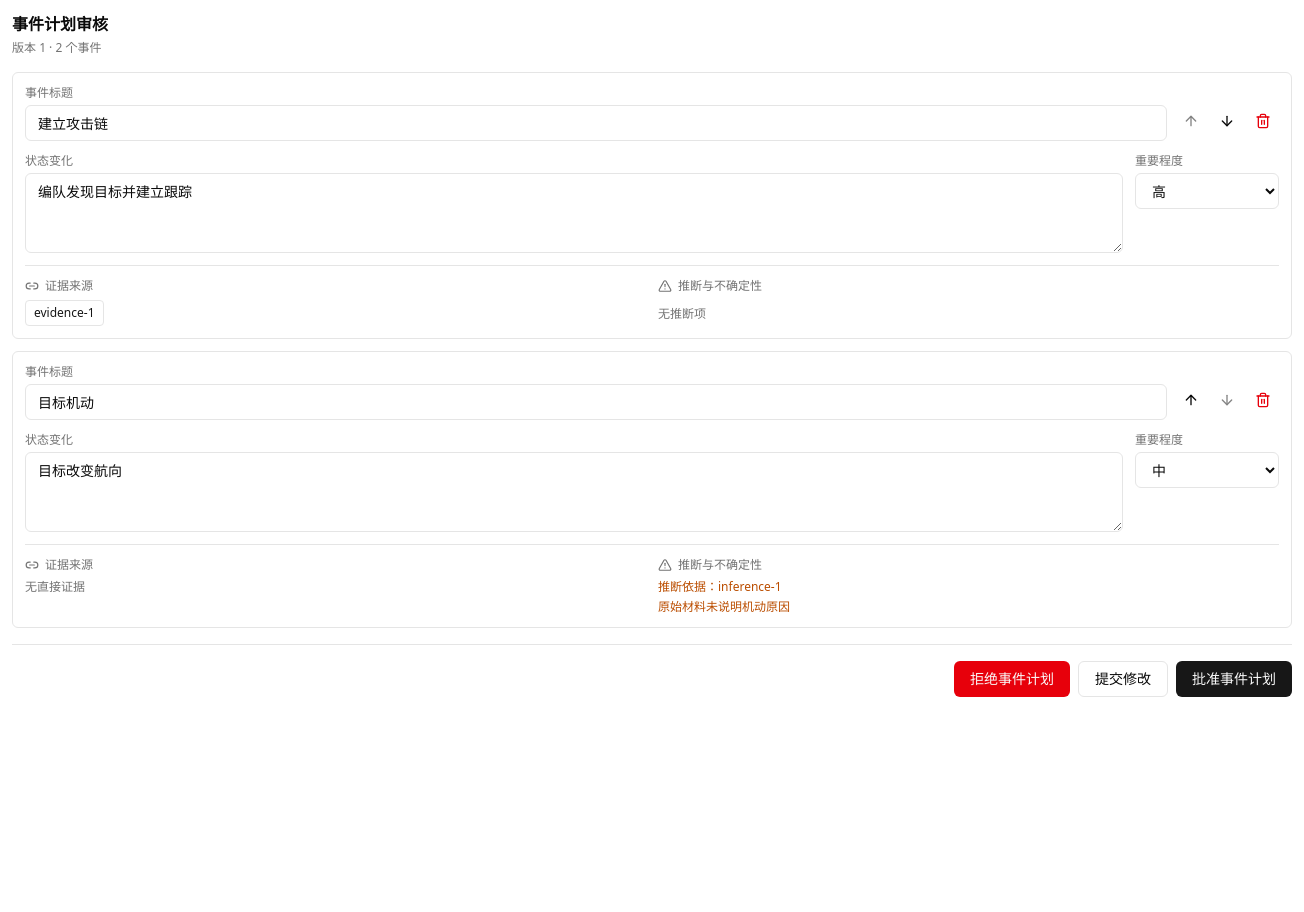
Test: EventPlanReview › does not allow deleting the last remaining event
Click the button named "删除 目标机动": [1263, 400] box [1247,384,1279,416]
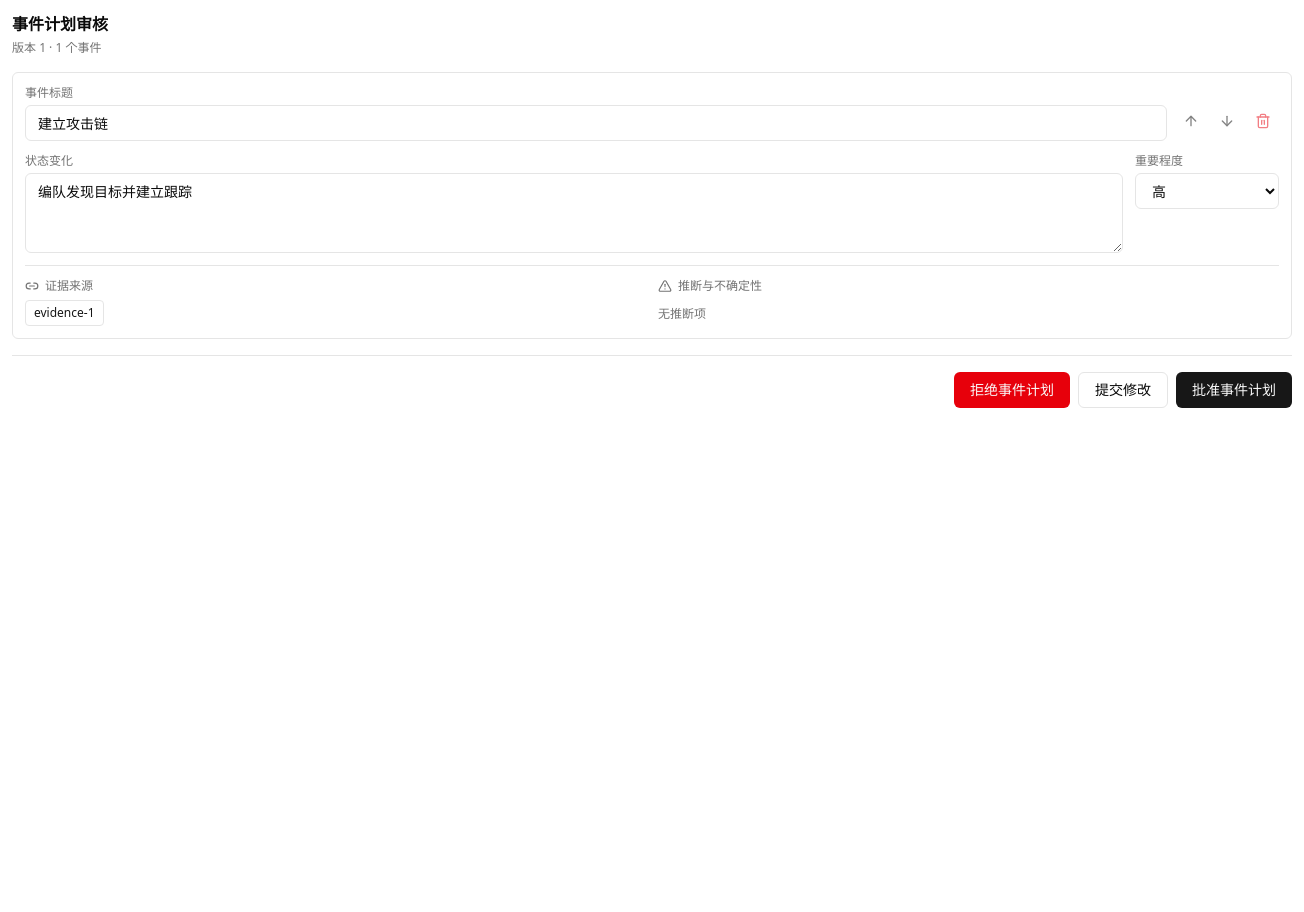
Expected: the button named "删除 建立攻击链" is disabled, [1247,105,1279,137]
